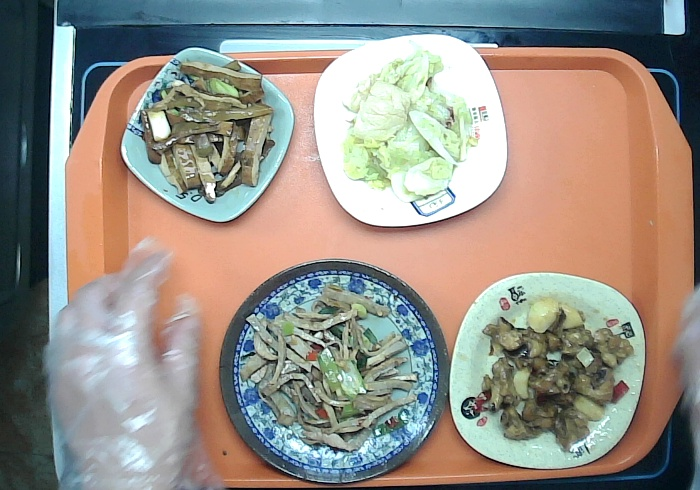NLDX-Bai_Se_Xiao_Fang_Die: (309, 32, 512, 235)
NLDX-Fu_Zi_Fang_Die: (446, 267, 648, 470)
NLDX-Qing_Hua_Xiao_Fang_Die: (118, 44, 296, 226)
NLDX-Qing_Hua_Yuan_Die: (208, 248, 460, 489)
